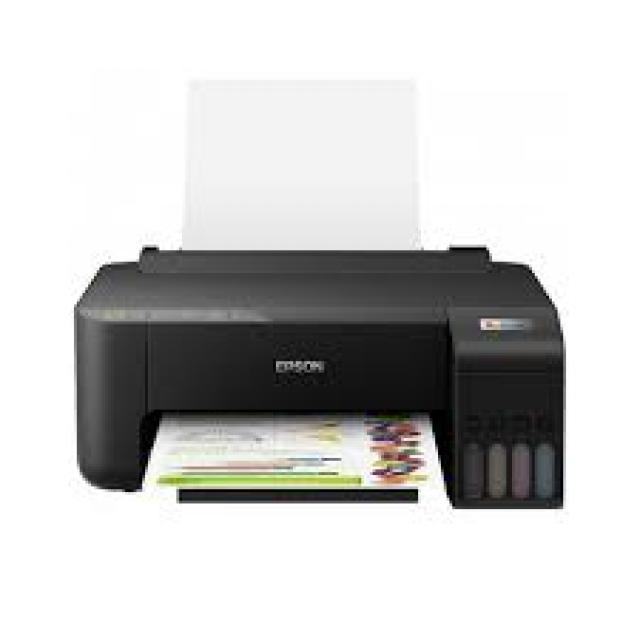printer: (48, 67, 594, 551)
